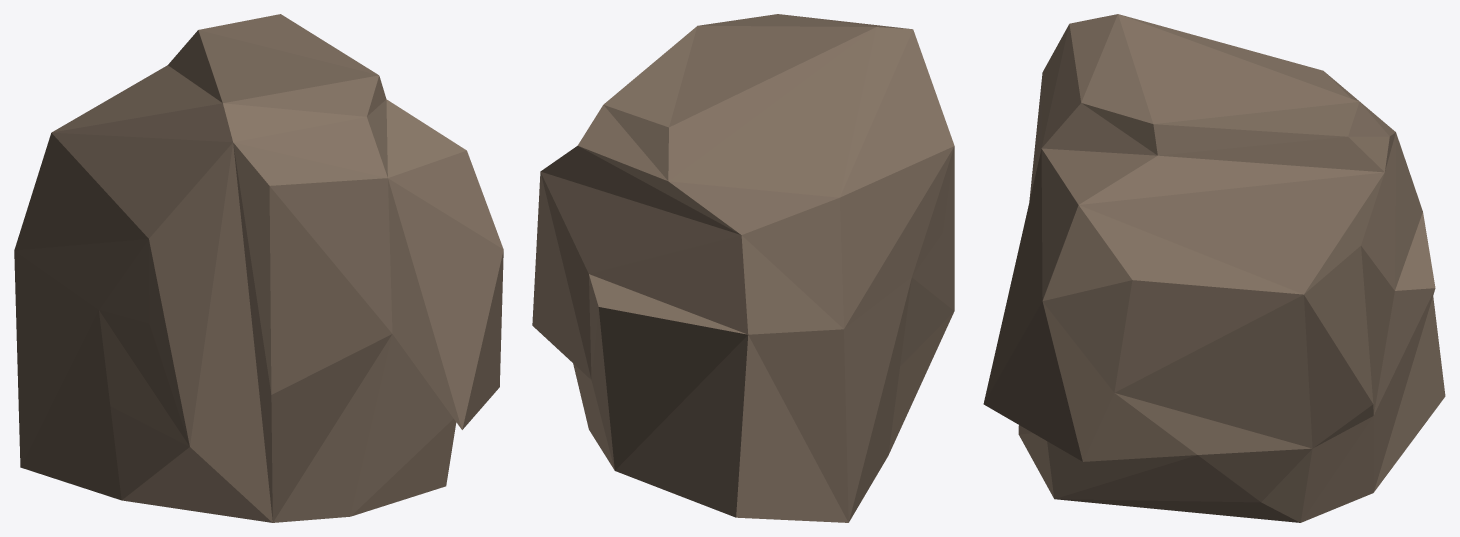
File: mossy-rock-b.lod2.glb
3 views of the same model, side by side, from view 1: azimuth 30°, elevation 25°; view 2: azimuth 150°, elevation 25°; view 3: azimuth 270°, elevation 25° (orthographic). The views are drawn at different scales.
Visible parts, largest first — view 1: defaultMaterial; view 2: defaultMaterial; view 3: defaultMaterial.
Part boxes in pixels (bbox=[...]): defaultMaterial: bbox=[14, 14, 503, 522]; defaultMaterial: bbox=[532, 14, 954, 522]; defaultMaterial: bbox=[983, 14, 1445, 522].
Bounding box in the file's own units: 4.21 × 4.95 × 4.98.
